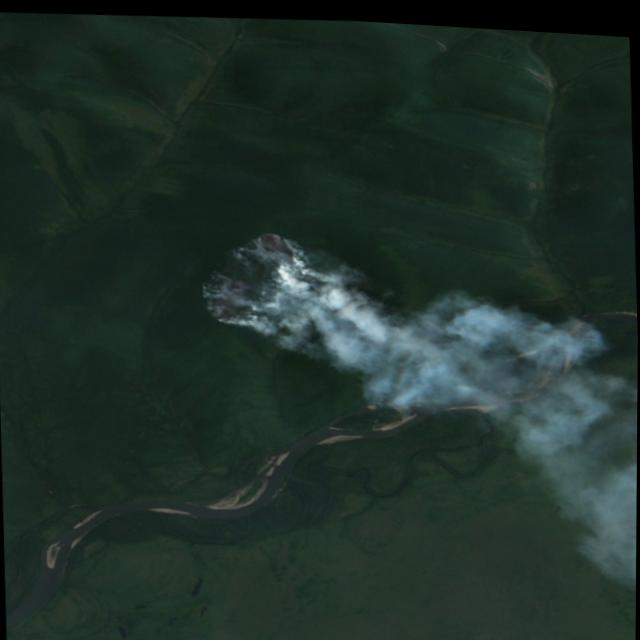fire: (200, 217, 309, 328)
